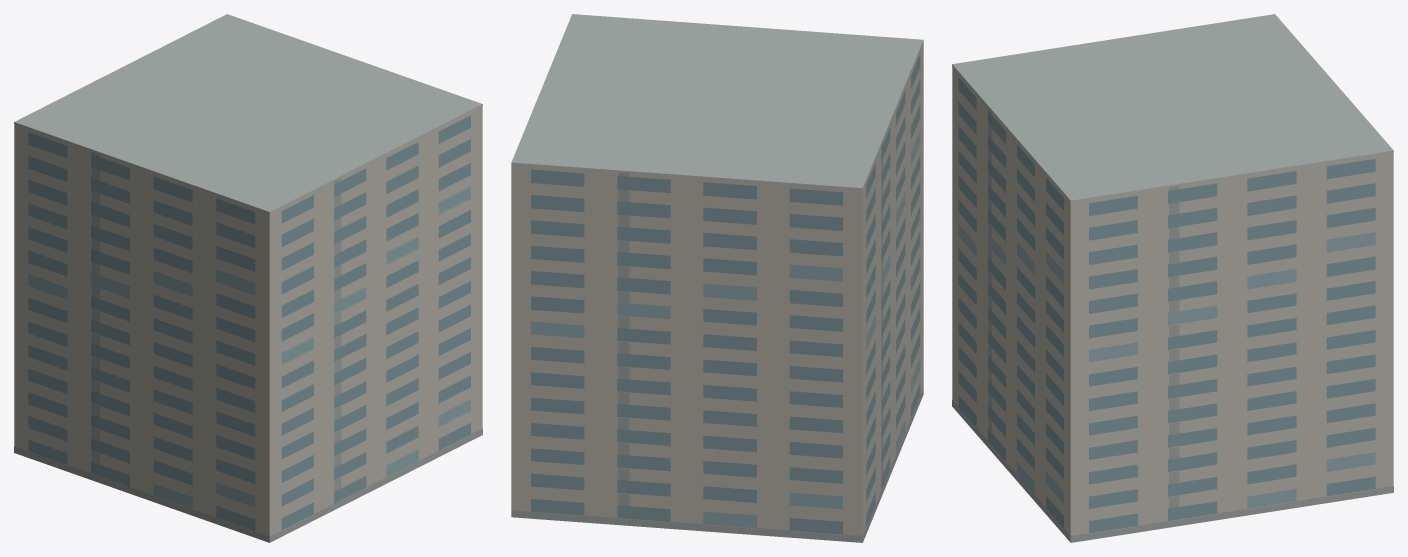
The model's file is residential-dfbe0bbc-e74e-488a-9d85-9fccf668424b.glb.
3 views of the same model, side by side, from view 1: azimuth 30°, elevation 25°; view 2: azimuth 150°, elevation 25°; view 3: azimuth 270°, elevation 25° (orthographic). The views are drawn at different scales.
Parts seen in each view (by area): view 1: residential-dfbe0bbc-e74e-488a-9d85-9fccf668424b.tmp; view 2: residential-dfbe0bbc-e74e-488a-9d85-9fccf668424b.tmp; view 3: residential-dfbe0bbc-e74e-488a-9d85-9fccf668424b.tmp.
Part boxes in pixels (x1,y1,x2,y2): residential-dfbe0bbc-e74e-488a-9d85-9fccf668424b.tmp: (14, 14, 482, 542); residential-dfbe0bbc-e74e-488a-9d85-9fccf668424b.tmp: (511, 14, 923, 542); residential-dfbe0bbc-e74e-488a-9d85-9fccf668424b.tmp: (952, 14, 1393, 542).
Bounding box in the file's own units: 47.96 × 41 × 47.96.
